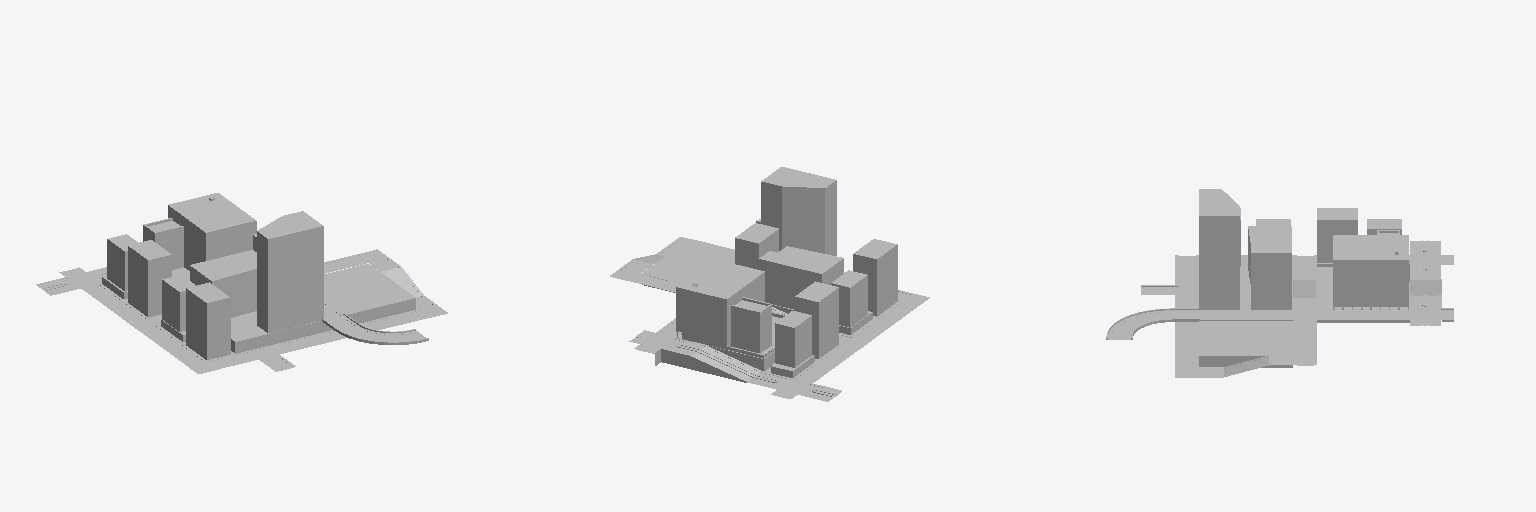
The model's file is CityBlock.obj.
3 views of the same model, side by side, from view 1: azimuth 30°, elevation 25°; view 2: azimuth 150°, elevation 25°; view 3: azimuth 270°, elevation 25° (orthographic).
Visible parts, largest first — view 1: Plane; view 2: Plane; view 3: Plane.
Boxes of the visible parts, x1,y1,x2,y2 form: Plane: [36, 193, 447, 373]; Plane: [610, 167, 929, 401]; Plane: [1106, 189, 1453, 377].
Bounding box in the file's own units: 291 × 106 × 312.